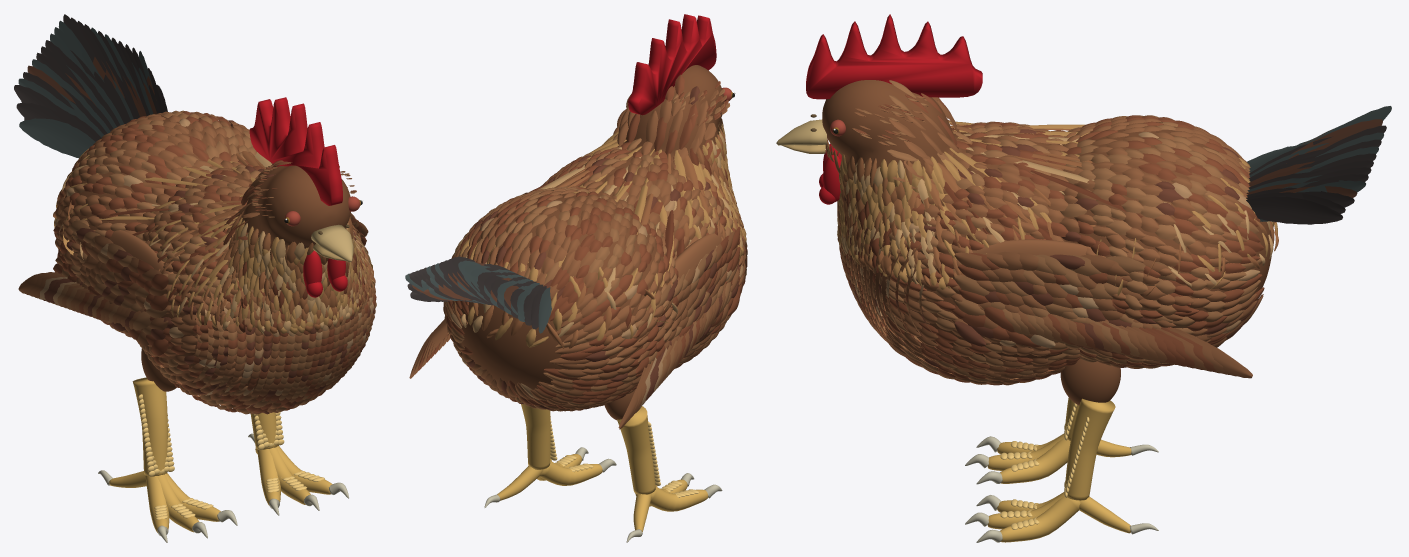
Rendered from hen_highpoly.glb.
3 renders of one model, left to right at view 1: azimuth 30°, elevation 25°; view 2: azimuth 150°, elevation 25°; view 3: azimuth 270°, elevation 25°, orthographic. The views are drawn at different scales.
Parts seen in each view (by area): view 1: Feathers | Feather • chestnut.003, Feathers | Feather • copper.003, Feathers | Feather • cinnamon.003, HEN • organic continuous body and head, Feathers | Tail • umber black.003, Feathers | Hackle • amber.003, Feathers | Tail • iridescent graphite.003, Feathers | Hackle • ochre.003, Single upright 6-point comb, Feathers | Feather • deep brown.003, Feathers | Hackle • honey.003, Tarsometatarsus -1 (+16 smaller); view 2: Feathers | Feather • chestnut.003, Feathers | Feather • copper.003, HEN • organic continuous body and head, Feathers | Feather • cinnamon.003, Feathers | Hackle • amber.003, Single upright 6-point comb, Feathers | Tail • umber black.003, Feathers | Hackle • ochre.003, Feathers | Feather • deep brown.003, Feathers | Tail • iridescent graphite.003, Tarsometatarsus -1, Feathers | Hackle • honey.003 (+10 smaller); view 3: Feathers | Feather • chestnut.003, Feathers | Feather • copper.003, Feathers | Feather • cinnamon.003, HEN • organic continuous body and head, Feathers | Hackle • amber.003, Single upright 6-point comb, Feathers | Tail • umber black.003, Feathers | Hackle • ochre.003, Feathers | Feather • deep brown.003, Feathers | Hackle • honey.003, Feathers | Tail • iridescent graphite.003, Tarsometatarsus 1 (+9 smaller).
Boxes of the visible parts, x1,y1,x2,y2 form: Feathers | Feather • chestnut.003: [18, 111, 376, 414]; Feathers | Feather • copper.003: [53, 111, 376, 412]; Feathers | Feather • cinnamon.003: [55, 110, 376, 414]; HEN • organic continuous body and head: [61, 118, 350, 404]; Feathers | Tail • umber black.003: [14, 14, 167, 141]; Feathers | Hackle • amber.003: [54, 134, 374, 334]; Feathers | Tail • iridescent graphite.003: [18, 20, 153, 158]; Feathers | Hackle • ochre.003: [53, 145, 371, 335]; Single upright 6-point comb: [249, 97, 342, 205]; Feathers | Feather • deep brown.003: [42, 116, 374, 414]; Feathers | Hackle • honey.003: [59, 152, 373, 334]; Tarsometatarsus -1: [132, 377, 167, 476]; Feathers | Feather • chestnut.003: [409, 90, 747, 429]; Feathers | Feather • copper.003: [417, 74, 747, 410]; HEN • organic continuous body and head: [452, 65, 740, 404]; Feathers | Feather • cinnamon.003: [444, 86, 747, 411]; Feathers | Hackle • amber.003: [454, 125, 746, 347]; Single upright 6-point comb: [628, 14, 716, 115]; Feathers | Tail • umber black.003: [407, 256, 546, 329]; Feathers | Hackle • ochre.003: [452, 118, 745, 348]; Feathers | Feather • deep brown.003: [456, 86, 743, 409]; Feathers | Tail • iridescent graphite.003: [405, 260, 551, 333]; Tarsometatarsus -1: [617, 406, 655, 494]; Feathers | Hackle • honey.003: [454, 122, 742, 337]; Feathers | Feather • chestnut.003: [839, 95, 1263, 385]; Feathers | Feather • copper.003: [840, 93, 1264, 385]; Feathers | Feather • cinnamon.003: [839, 80, 1264, 382]; HEN • organic continuous body and head: [822, 80, 1271, 376]; Feathers | Hackle • amber.003: [827, 121, 1277, 295]; Single upright 6-point comb: [806, 14, 982, 99]; Feathers | Tail • umber black.003: [1246, 125, 1386, 224]; Feathers | Hackle • ochre.003: [825, 124, 1278, 297]; Feathers | Feather • deep brown.003: [844, 126, 1261, 374]; Feathers | Hackle • honey.003: [837, 126, 1273, 286]; Feathers | Tail • iridescent graphite.003: [1247, 106, 1391, 221]; Tarsometatarsus 1: [1064, 398, 1115, 500].
Size of the model in its own units: 1.09 by 2.08 by 2.41.
